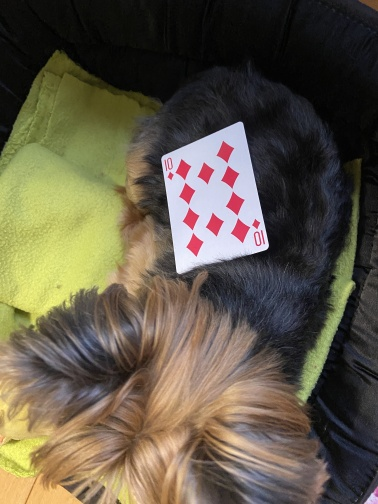ten: (160, 119, 271, 277)
